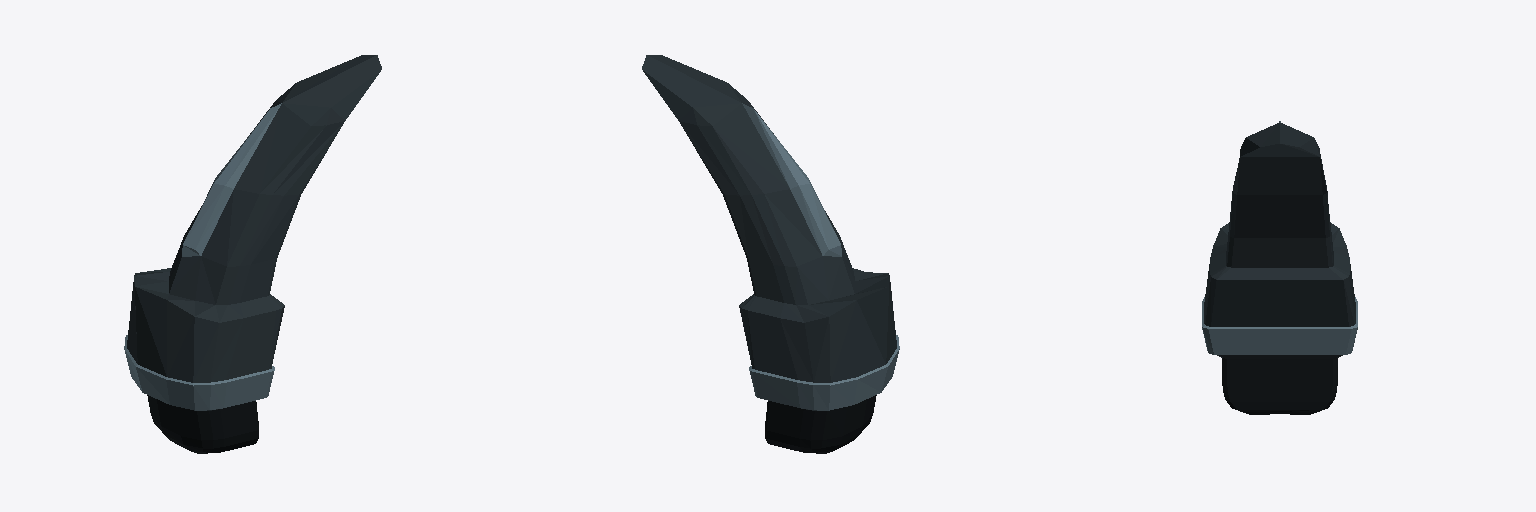
Rendered from character_knightArmRight.obj.
3 renders of one model, left to right at view 1: azimuth 30°, elevation 25°; view 2: azimuth 150°, elevation 25°; view 3: azimuth 270°, elevation 25°, orthographic.
Parts seen in each view (by area): view 1: character_knightArmRight_Cube.003; view 2: character_knightArmRight_Cube.003; view 3: character_knightArmRight_Cube.003.
Boxes of the visible parts, <box> form: character_knightArmRight_Cube.003: <box>124,55,381,453</box>; character_knightArmRight_Cube.003: <box>642,55,899,453</box>; character_knightArmRight_Cube.003: <box>1202,121,1357,414</box>.
Bounding box in the file's own units: 0.4338 × 0.5868 × 0.2431.